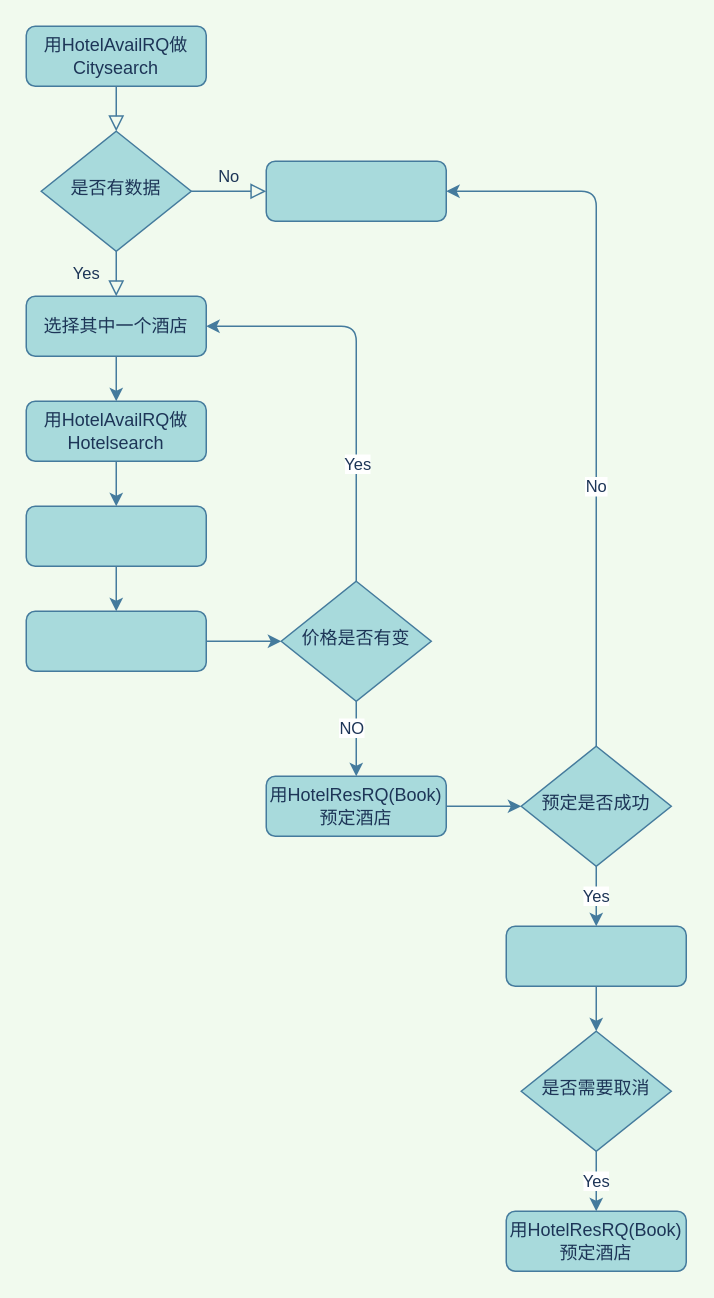
The diagram is 714 pixels wide and 1298 high, and some of its shapes have lost their labels. The centre of each missing label's shape, as x and y in pixels:
TravelItineraryReadRQ 查询订单详细: (x=595, y=955)
换个city,或重新查询: (x=355, y=190)
用HotelResRQ(Hold) 再次检验价格: (x=115, y=640)
选择其中一个房间,查看取消政策,入住条件: (x=115, y=535)
